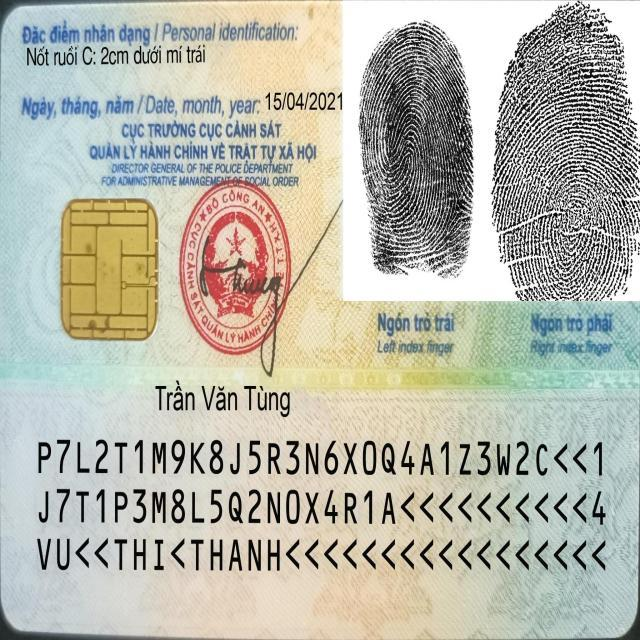features: (491, 2, 640, 367), (26, 40, 216, 70)
finger_print: (342, 0, 482, 366)
issue_date: (261, 82, 346, 115)
